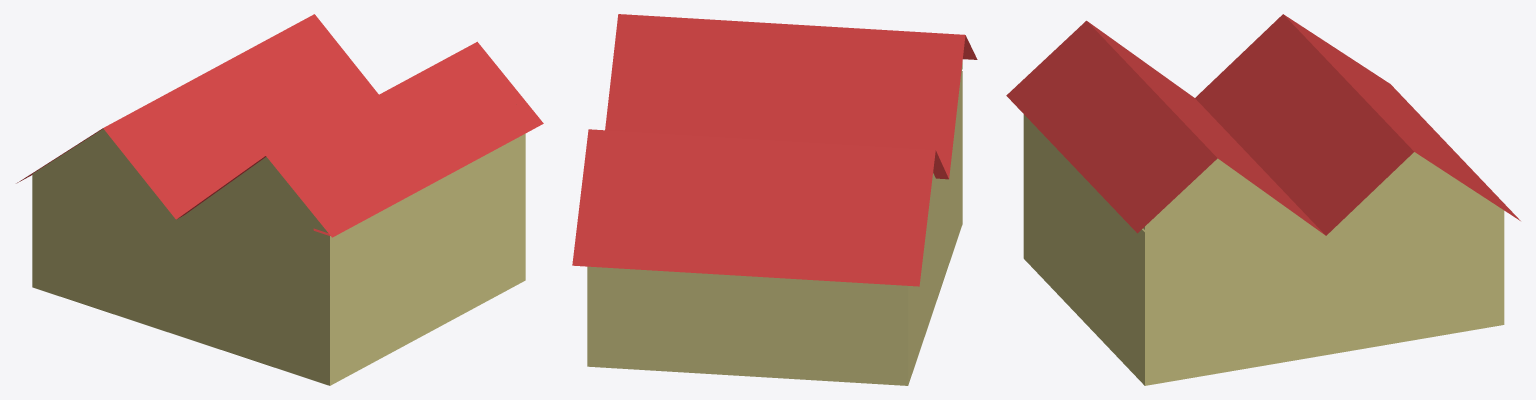
3 renders of one model, left to right at view 1: azimuth 30°, elevation 25°; view 2: azimuth 150°, elevation 25°; view 3: azimuth 270°, elevation 25°, orthographic. The views are drawn at different scales.
Bounding box in the file's own units: 17.93 × 19.22 × 9.1.
